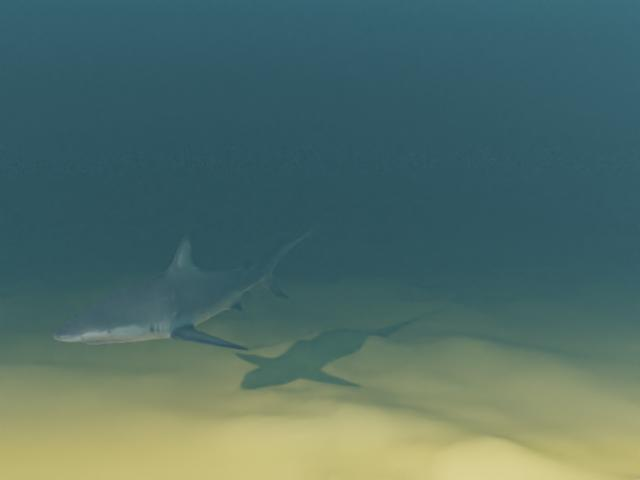Carribean Shark.001: (53, 221, 323, 350)
